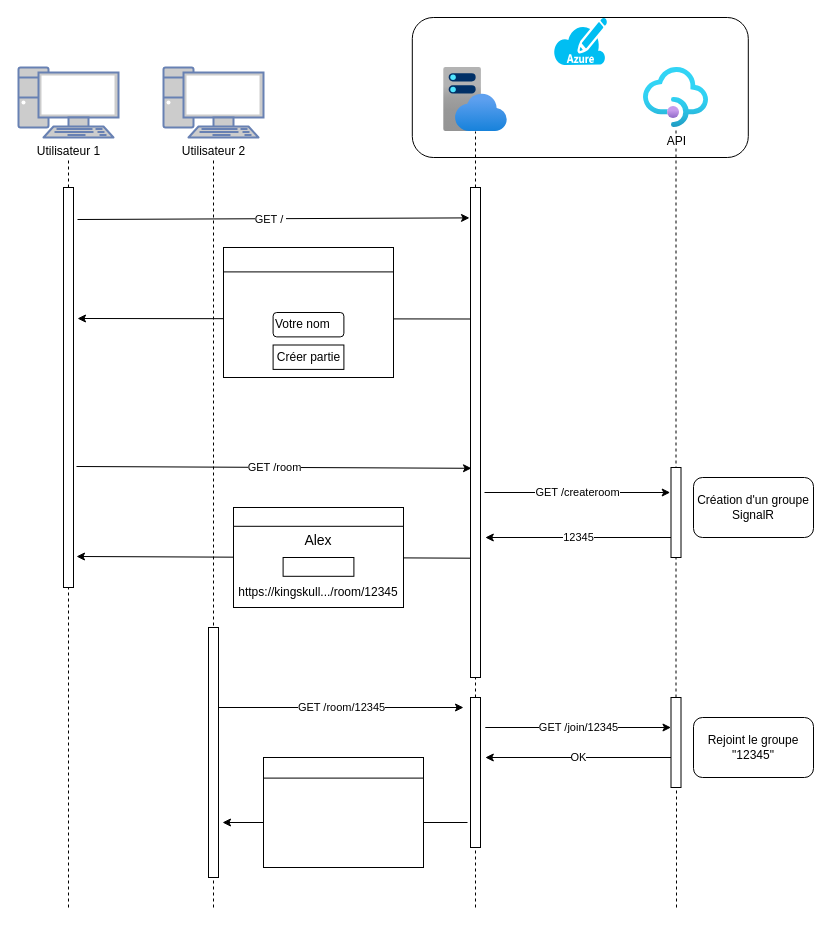
The diagram is 831 pixels wide and 926 high, and some of its shapes have lost their labels. Each missing label, with the box of its shape:
Alex Loïc: (262, 756, 424, 868)
King Skull: (222, 246, 394, 378)
Lancer: (282, 556, 354, 576)
Web Server: (443, 67, 507, 131)
